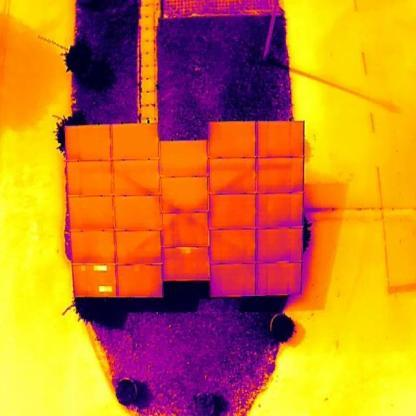anomaly: (91, 263, 109, 272), (177, 247, 198, 254), (98, 285, 113, 293), (80, 264, 87, 272)
